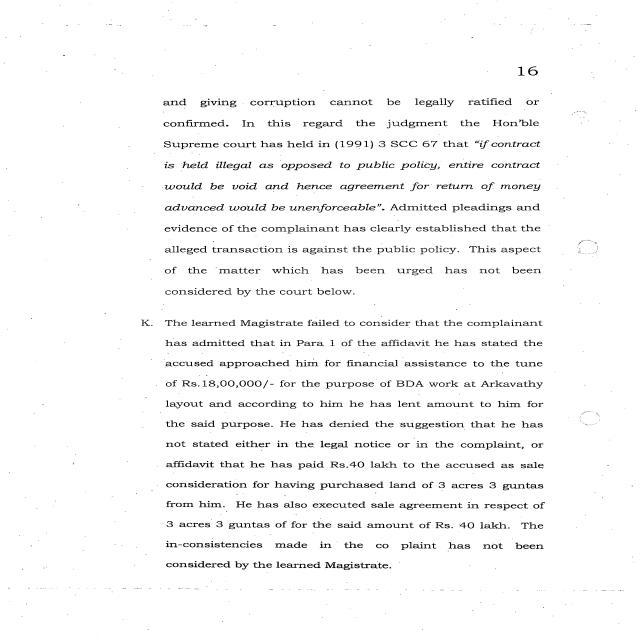page-number: (408, 15, 636, 90)
